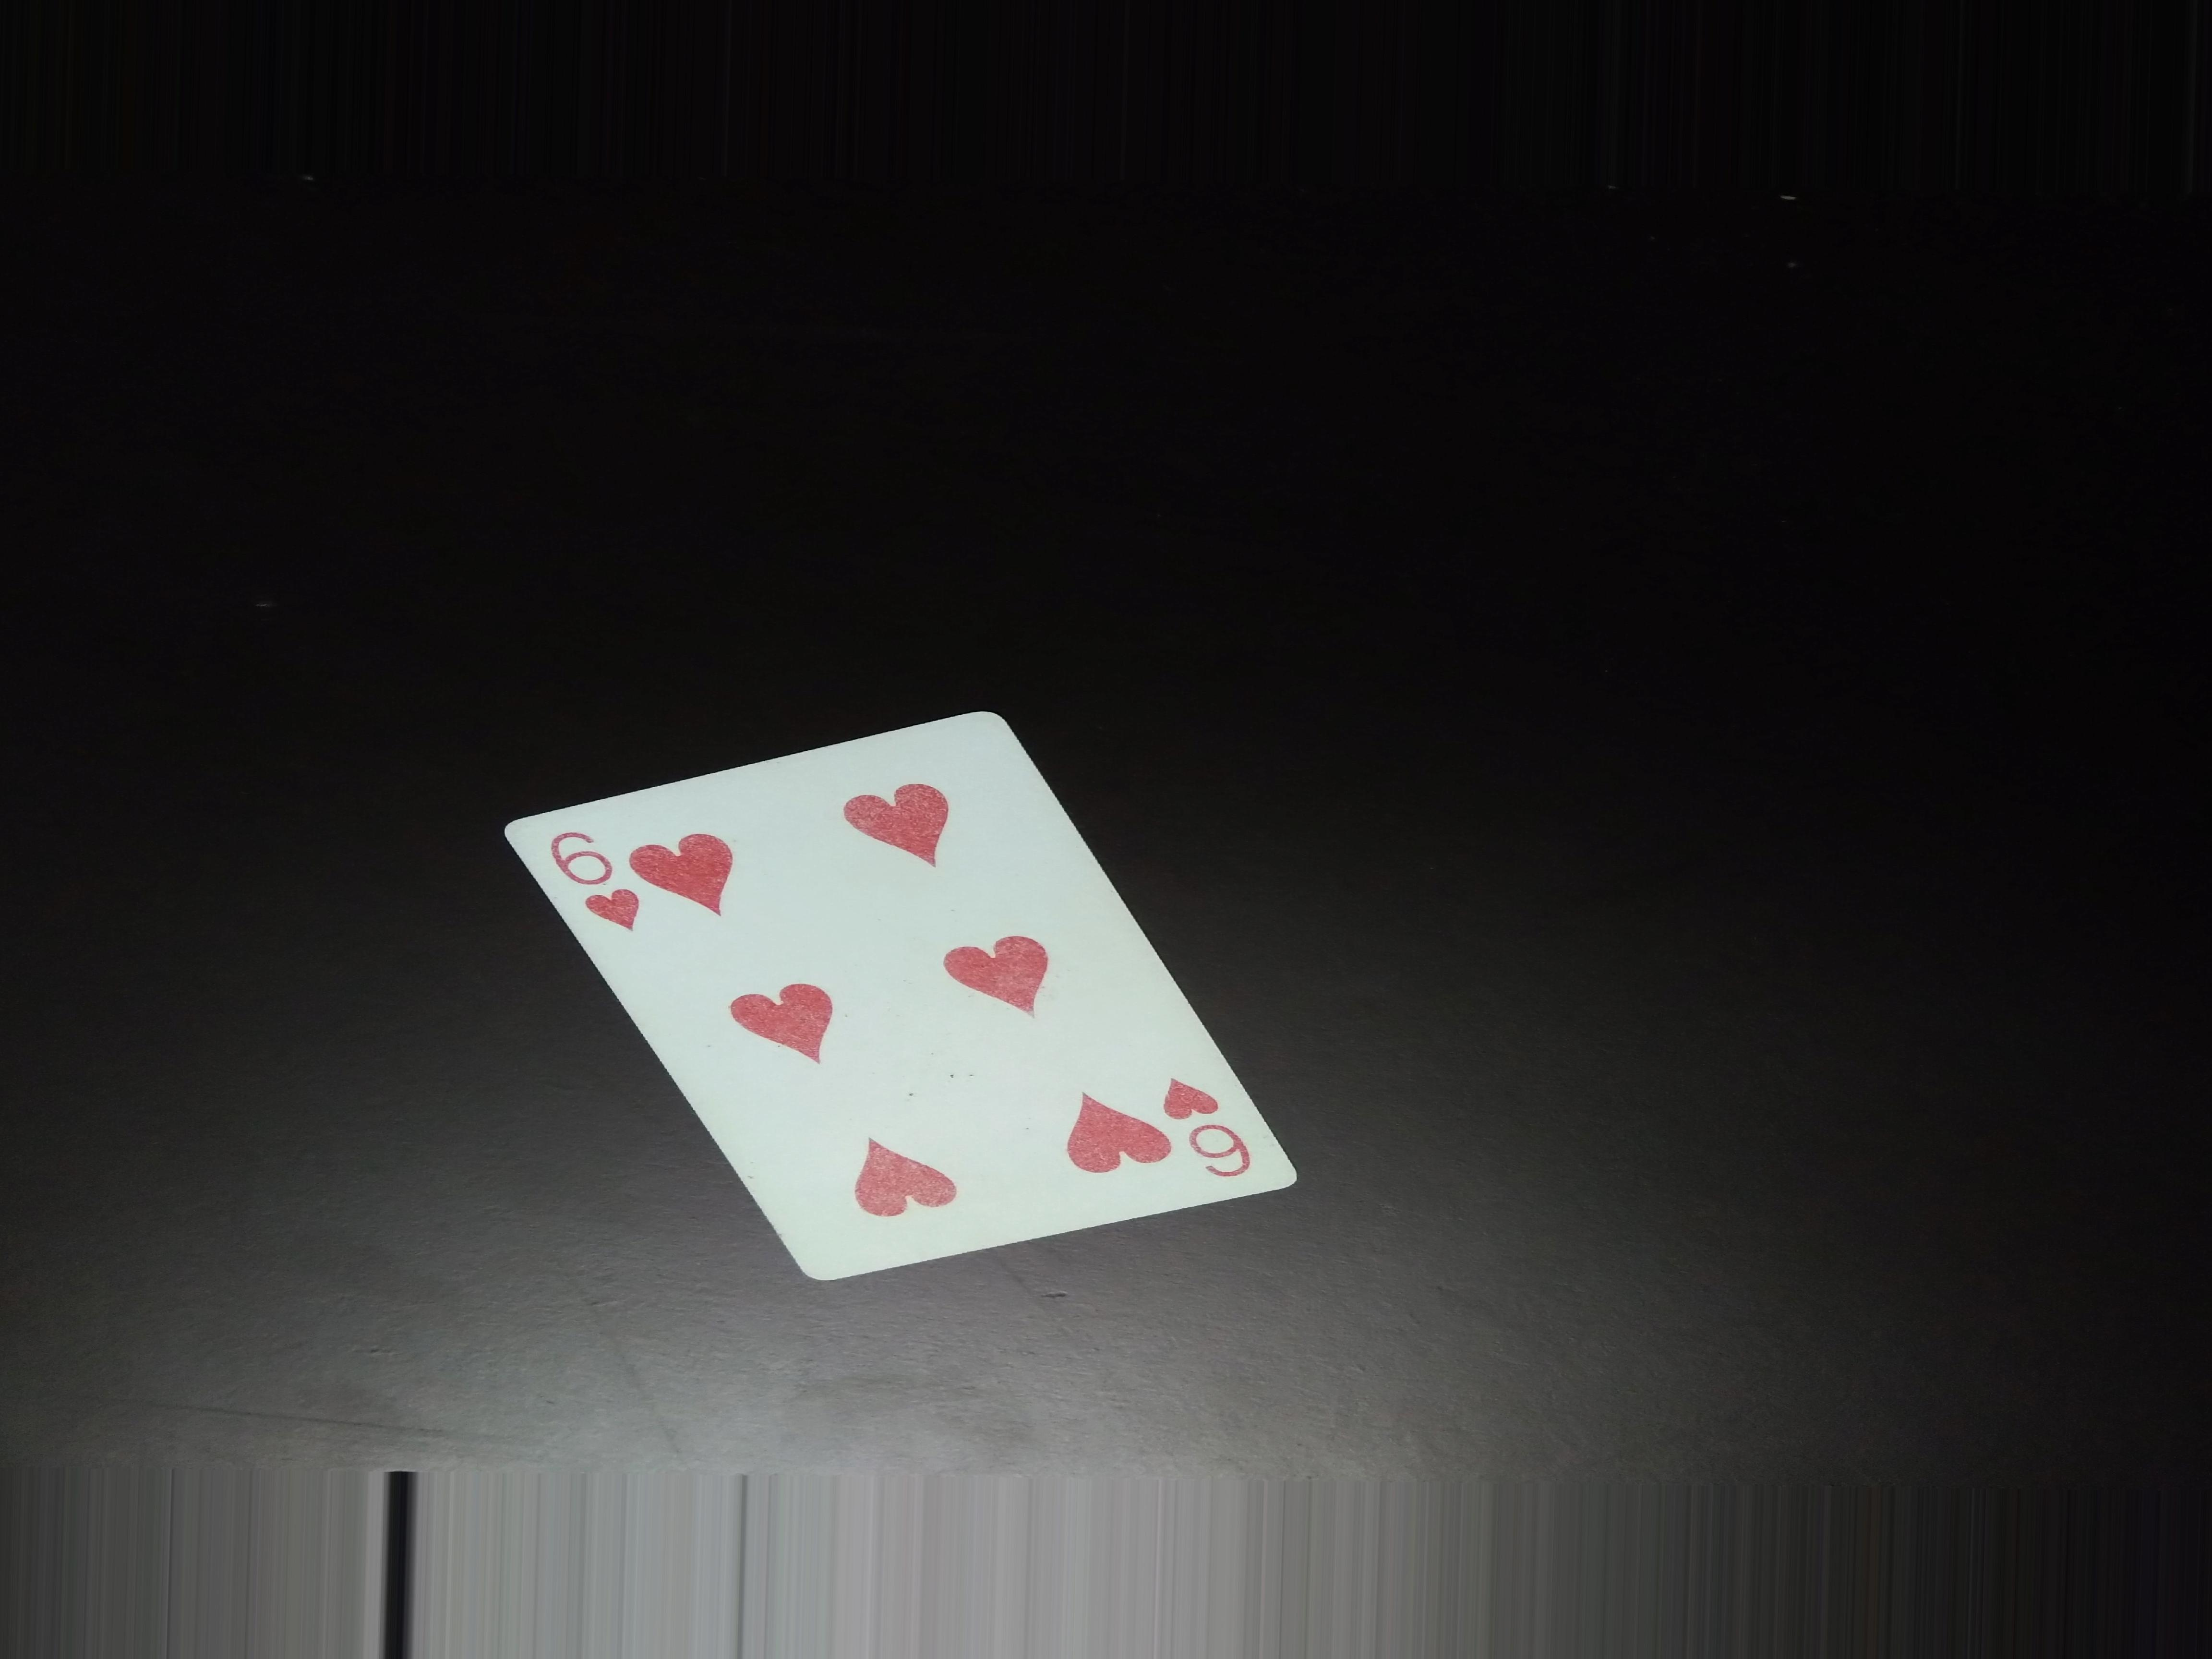6H: (547, 831, 650, 941)
